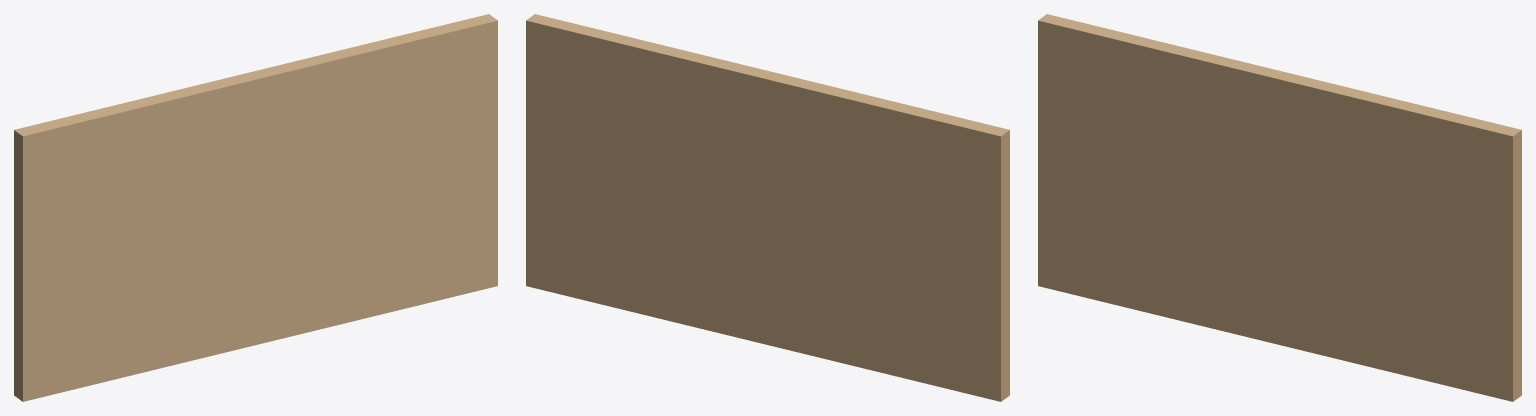
File: wall.fbx
3 renders of one model, left to right at view 1: azimuth 30°, elevation 25°; view 2: azimuth 150°, elevation 25°; view 3: azimuth 330°, elevation 25°, orthographic.
Parts seen in each view (by area): view 1: wall; view 2: wall; view 3: wall.
Part boxes in pixels (left/top/right/bottom): wall: left=14, top=14, right=497, bottom=401; wall: left=526, top=14, right=1009, bottom=401; wall: left=1038, top=14, right=1521, bottom=401.
Size of the model in its own units: 400 by 214 by 13.07.
1 material, 1 textured.
